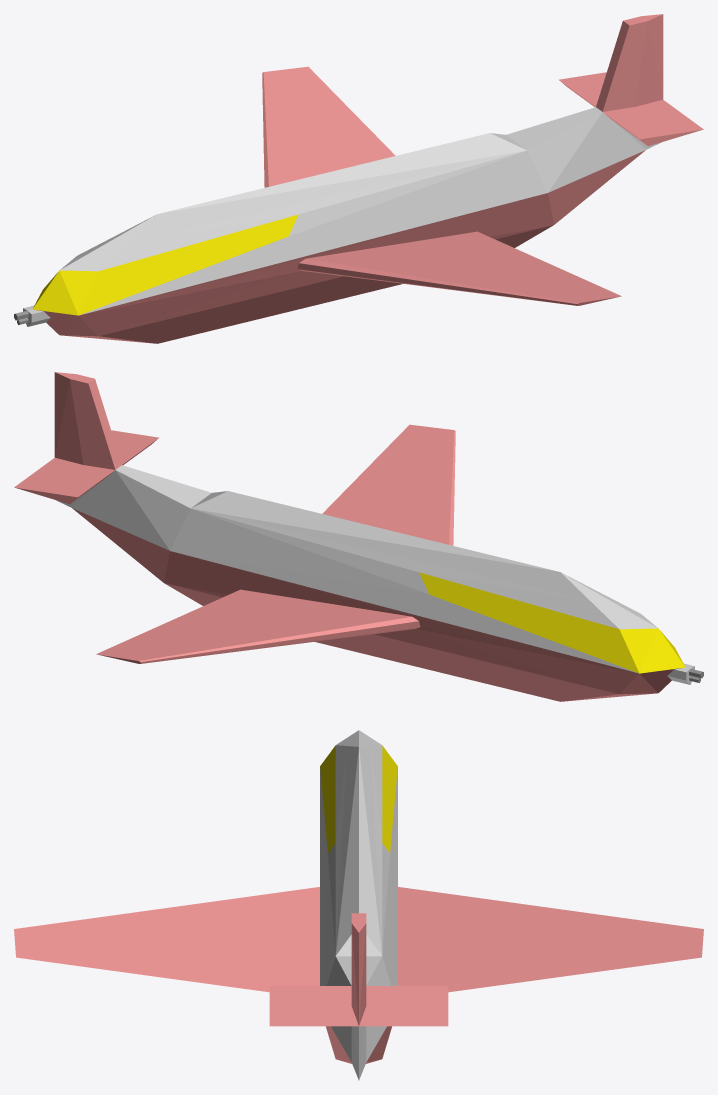
File: Bob.fbx
3 views of the same model, one above another, from view 1: azimuth 30°, elevation 25°; view 2: azimuth 150°, elevation 25°; view 3: azimuth 270°, elevation 25° (orthographic). The views are drawn at different scales.
Visible parts, largest first — view 1: Bob; view 2: Bob; view 3: Bob.
Boxes of the visible parts, x1=… form: Bob: x1=14, y1=14, x2=703, y2=343; Bob: x1=14, y1=372, x2=703, y2=701; Bob: x1=14, y1=730, x2=703, y2=1080.
Size of the model in its own units: 1649 by 480 by 1331.
